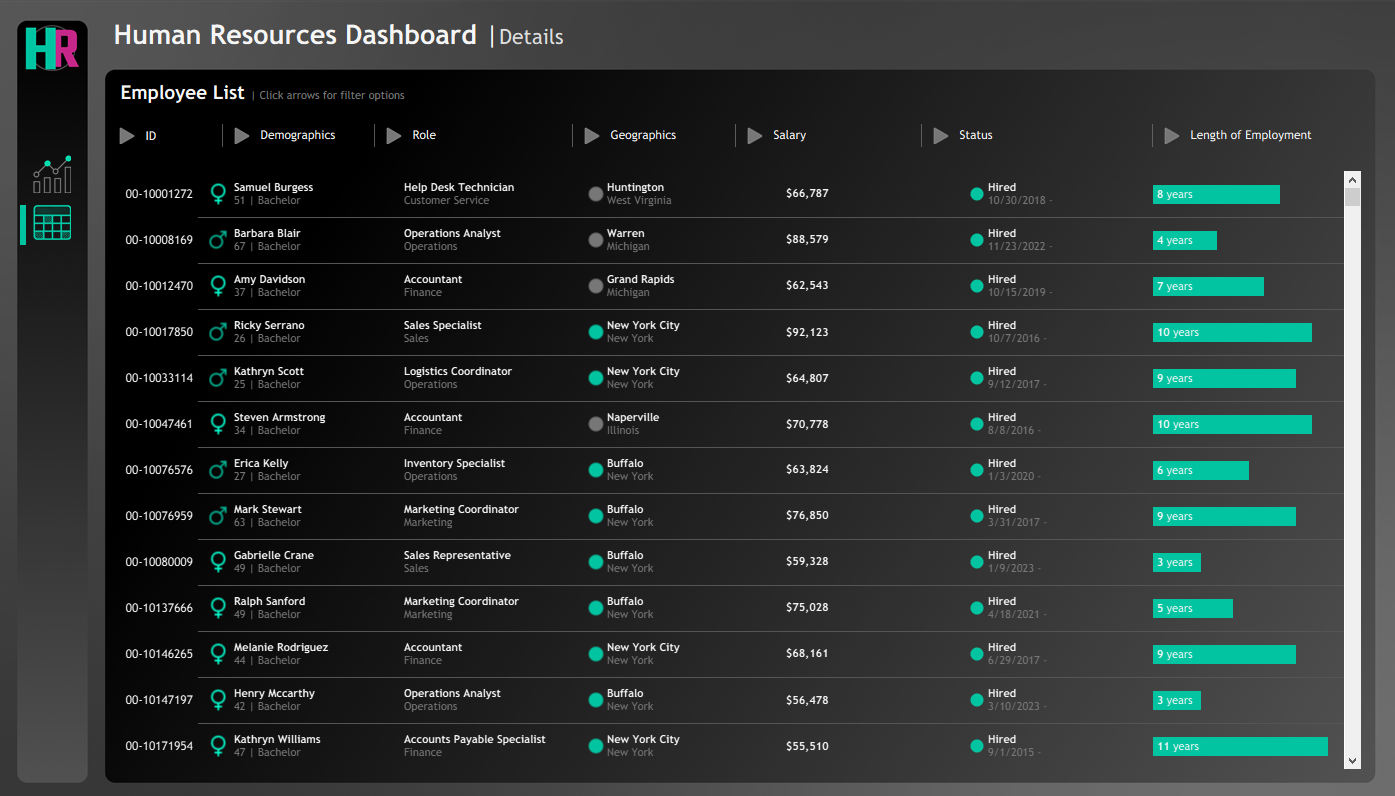

Layout of this report page (visuals, bound fields, positions):
{"tool":"tableau","page":{"name":"HR | Details","canvas":[1400,800],"ordinal":0},"visuals":[{"type":"image","param":"Image/background dashbaord details.png","box":[0,0,1400,800]},{"type":"blank","box":[90,0,1309,240]},{"type":"text","box":[110,0,673,70]},{"type":"blank","box":[783,0,597,70]},{"type":"image","param":"Image/Logo.png","box":[20,20,70,55]},{"type":"text","box":[117,77,1256,37]},{"type":"blank","box":[30,85,50,70]},{"type":"dashboard-object","box":[117,114,25,43]},{"type":"text","box":[142,114,77,43]},{"type":"blank","box":[219,114,13,43]},{"type":"dashboard-object","box":[232,114,25,42]},{"type":"text","box":[257,114,114,42]},{"type":"blank","box":[371,114,13,43]},{"type":"dashboard-object","box":[384,114,25,42]},{"type":"text","box":[409,114,160,42]},{"type":"blank","box":[569,114,13,43]},{"type":"dashboard-object","box":[582,114,25,42]},{"type":"text","box":[607,114,125,42]},{"type":"blank","box":[732,114,13,43]},{"type":"dashboard-object","box":[745,114,25,42]},{"type":"text","box":[770,114,148,42]},{"type":"blank","box":[918,114,13,43]},{"type":"dashboard-object","box":[931,114,25,42]},{"type":"text","box":[955.9,114,193.5,42]},{"type":"blank","box":[1149.5,114,13,43]},{"type":"dashboard-object","box":[1162.5,114,25,42]},{"type":"text","box":[1187.5,114,185.5,42]},{"type":"dashboard-object","box":[30,155,50,38]},{"type":"filter","title":"Detailed","param":"[federated.1uy6vyf0tya8w3119f4041qdymfc].[none:Calculation_990228993555632131:nk","box":[232,156,139,48]},{"type":"filter","title":"Detailed","param":"[federated.1uy6vyf0tya8w3119f4041qdymfc].[none:Job Title:nk]","box":[384,156,185,48]},{"type":"filter","title":"Detailed","param":"[federated.1uy6vyf0tya8w3119f4041qdymfc].[none:Calculation_3363625995846344715:n","box":[582,160,150,56]},{"type":"filter","title":"Detailed","param":"[federated.1uy6vyf0tya8w3119f4041qdymfc].[sum:Salary:qk]","box":[745,160,173,68]},{"type":"filter","title":"Detailed","param":"[federated.1uy6vyf0tya8w3119f4041qdymfc].[none:Calculation_2981664453132697602:n","box":[931,160,218.5,56]},{"type":"filter","title":"Detailed","param":"[federated.1uy6vyf0tya8w3119f4041qdymfc].[sum:Calculation_990228993560891399:qk]","box":[1162.5,160,210.5,68]},{"type":"filter","title":"Detailed","param":"[federated.1uy6vyf0tya8w3119f4041qdymfc].[none:Employee_ID:nk]","box":[117,161,102,53]},{"type":"worksheet","title":"Detailed","mark":"Shape","rows":["Employee_ID"],"cols":["Calculation_990228993555034113","Calculation_990228993555034113","Calculation_990228993555034113","Calculation_990228993555034113","Calculation_990228993555034113","Calculation_990228993560891399"],"box":[117,167,1256,606]},{"type":"blank","box":[30,193,50,10]},{"type":"dashboard-object","box":[30,203,50,38]},{"type":"filter","title":"Detailed","param":"[federated.1uy6vyf0tya8w3119f4041qdymfc].[none:Gender:nk]","box":[232,204,139,48]},{"type":"filter","title":"Detailed","param":"[federated.1uy6vyf0tya8w3119f4041qdymfc].[none:Department:nk]","box":[384,204,185,48]},{"type":"blank","box":[23,205,6,40]},{"type":"filter","title":"Detailed","param":"[federated.1uy6vyf0tya8w3119f4041qdymfc].[none:State:nk]","box":[582,216,150,56]},{"type":"filter","title":"Detailed","param":"[federated.1uy6vyf0tya8w3119f4041qdymfc].[yr:Hiredate:ok]","box":[931,216,218.5,56]},{"type":"text","box":[90,240,1309,320]},{"type":"blank","box":[30,241,50,70]},{"type":"filter","title":"Detailed","param":"[federated.1uy6vyf0tya8w3119f4041qdymfc].[none:Calculation_3363625995862552598:n","box":[232,252,139,48]},{"type":"filter","title":"Detailed","param":"[federated.1uy6vyf0tya8w3119f4041qdymfc].[none:City:nk]","box":[582,272,150,56]},{"type":"filter","title":"Detailed","param":"[federated.1uy6vyf0tya8w3119f4041qdymfc].[yr:Termdate:ok]","box":[931,272,218.5,56]},{"type":"filter","title":"Detailed","param":"[federated.1uy6vyf0tya8w3119f4041qdymfc].[none:Education Level:nk]","box":[232,300,139,48]},{"type":"blank","box":[90,560,1309,240]}]}

Visuals, with their boxes in screenshot pixels (x1, y1, x2, y2), scaled from the page's 1400x800 canvas onto the 1395x796 screenshot:
image: pyautogui.locateOnScreen(0, 0, 1394, 795)
blank: pyautogui.locateOnScreen(90, 0, 1394, 239)
text: pyautogui.locateOnScreen(110, 0, 780, 70)
blank: pyautogui.locateOnScreen(780, 0, 1375, 70)
image: pyautogui.locateOnScreen(20, 20, 90, 75)
text: pyautogui.locateOnScreen(117, 77, 1368, 113)
blank: pyautogui.locateOnScreen(30, 85, 80, 154)
dashboard-object: pyautogui.locateOnScreen(117, 113, 141, 156)
text: pyautogui.locateOnScreen(141, 113, 218, 156)
blank: pyautogui.locateOnScreen(218, 113, 231, 156)
dashboard-object: pyautogui.locateOnScreen(231, 113, 256, 155)
text: pyautogui.locateOnScreen(256, 113, 370, 155)
blank: pyautogui.locateOnScreen(370, 113, 383, 156)
dashboard-object: pyautogui.locateOnScreen(383, 113, 408, 155)
text: pyautogui.locateOnScreen(408, 113, 567, 155)
blank: pyautogui.locateOnScreen(567, 113, 580, 156)
dashboard-object: pyautogui.locateOnScreen(580, 113, 605, 155)
text: pyautogui.locateOnScreen(605, 113, 729, 155)
blank: pyautogui.locateOnScreen(729, 113, 742, 156)
dashboard-object: pyautogui.locateOnScreen(742, 113, 767, 155)
text: pyautogui.locateOnScreen(767, 113, 915, 155)
blank: pyautogui.locateOnScreen(915, 113, 928, 156)
dashboard-object: pyautogui.locateOnScreen(928, 113, 953, 155)
text: pyautogui.locateOnScreen(952, 113, 1145, 155)
blank: pyautogui.locateOnScreen(1145, 113, 1158, 156)
dashboard-object: pyautogui.locateOnScreen(1158, 113, 1183, 155)
text: pyautogui.locateOnScreen(1183, 113, 1368, 155)
dashboard-object: pyautogui.locateOnScreen(30, 154, 80, 192)
"Detailed" filter: pyautogui.locateOnScreen(231, 155, 370, 203)
"Detailed" filter: pyautogui.locateOnScreen(383, 155, 567, 203)
"Detailed" filter: pyautogui.locateOnScreen(580, 159, 729, 215)
"Detailed" filter: pyautogui.locateOnScreen(742, 159, 915, 227)
"Detailed" filter: pyautogui.locateOnScreen(928, 159, 1145, 215)
"Detailed" filter: pyautogui.locateOnScreen(1158, 159, 1368, 227)
"Detailed" filter: pyautogui.locateOnScreen(117, 160, 218, 213)
"Detailed" worksheet (Shape marks): pyautogui.locateOnScreen(117, 166, 1368, 769)
blank: pyautogui.locateOnScreen(30, 192, 80, 202)
dashboard-object: pyautogui.locateOnScreen(30, 202, 80, 240)
"Detailed" filter: pyautogui.locateOnScreen(231, 203, 370, 251)
"Detailed" filter: pyautogui.locateOnScreen(383, 203, 567, 251)
blank: pyautogui.locateOnScreen(23, 204, 29, 244)
"Detailed" filter: pyautogui.locateOnScreen(580, 215, 729, 271)
"Detailed" filter: pyautogui.locateOnScreen(928, 215, 1145, 271)
text: pyautogui.locateOnScreen(90, 239, 1394, 557)
blank: pyautogui.locateOnScreen(30, 240, 80, 309)
"Detailed" filter: pyautogui.locateOnScreen(231, 251, 370, 298)
"Detailed" filter: pyautogui.locateOnScreen(580, 271, 729, 326)
"Detailed" filter: pyautogui.locateOnScreen(928, 271, 1145, 326)
"Detailed" filter: pyautogui.locateOnScreen(231, 298, 370, 346)
blank: pyautogui.locateOnScreen(90, 557, 1394, 795)
